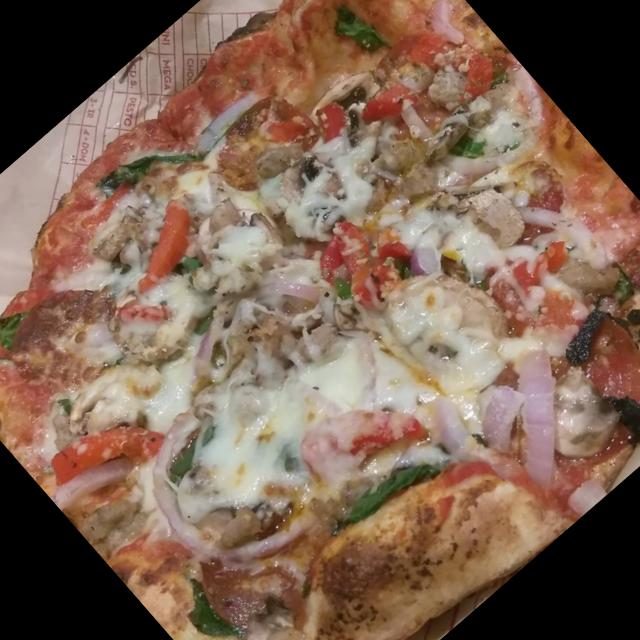mushrooms: (52, 340, 168, 452), (452, 164, 535, 250), (394, 105, 472, 178), (80, 204, 152, 274), (312, 63, 380, 129)
pizza: (0, 0, 640, 640)
